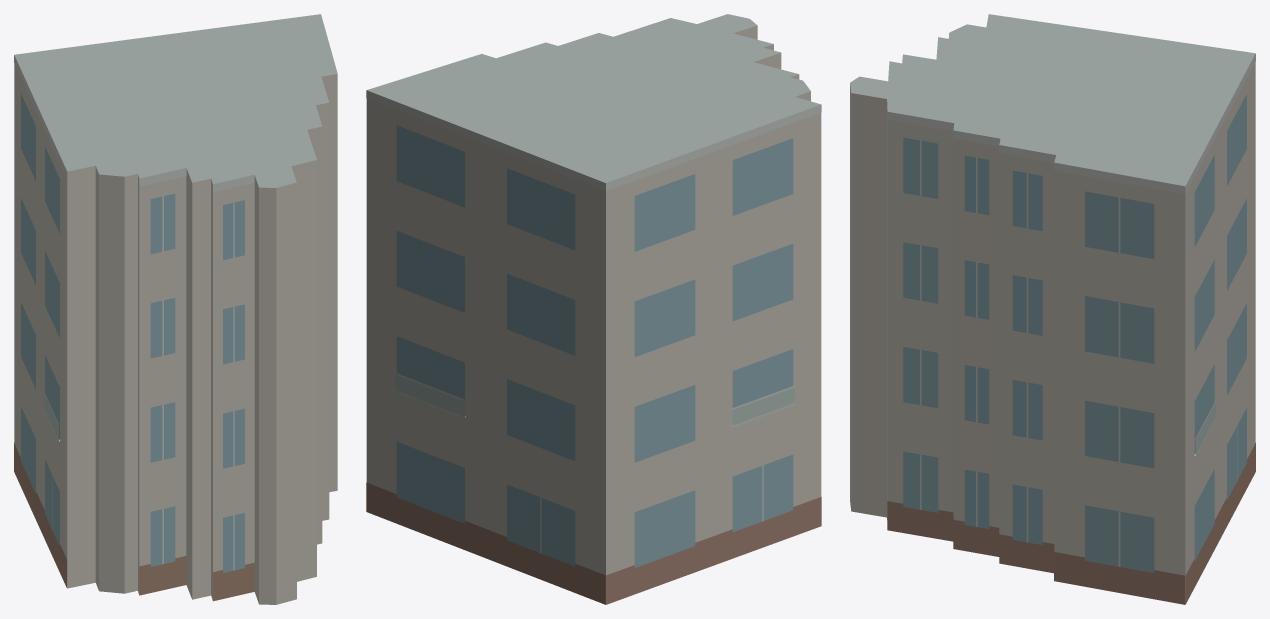
Rendered from survey-upis-32533584.glb.
3 views of the same model, side by side, from view 1: azimuth 30°, elevation 25°; view 2: azimuth 150°, elevation 25°; view 3: azimuth 270°, elevation 25° (orthographic).
Visible parts, largest first — view 1: survey-upis-32533584.tmp; view 2: survey-upis-32533584.tmp; view 3: survey-upis-32533584.tmp.
Boxes of the visible parts, x1,y1,x2,y2 form: survey-upis-32533584.tmp: [14, 14, 337, 604]; survey-upis-32533584.tmp: [366, 14, 821, 604]; survey-upis-32533584.tmp: [850, 14, 1255, 604].
Bounding box in the file's own units: 11.16 × 12.63 × 11.1.
